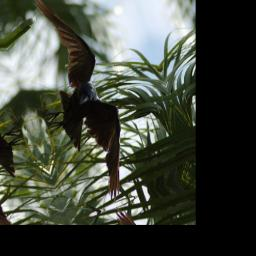Crow: (10, 0, 146, 214)
